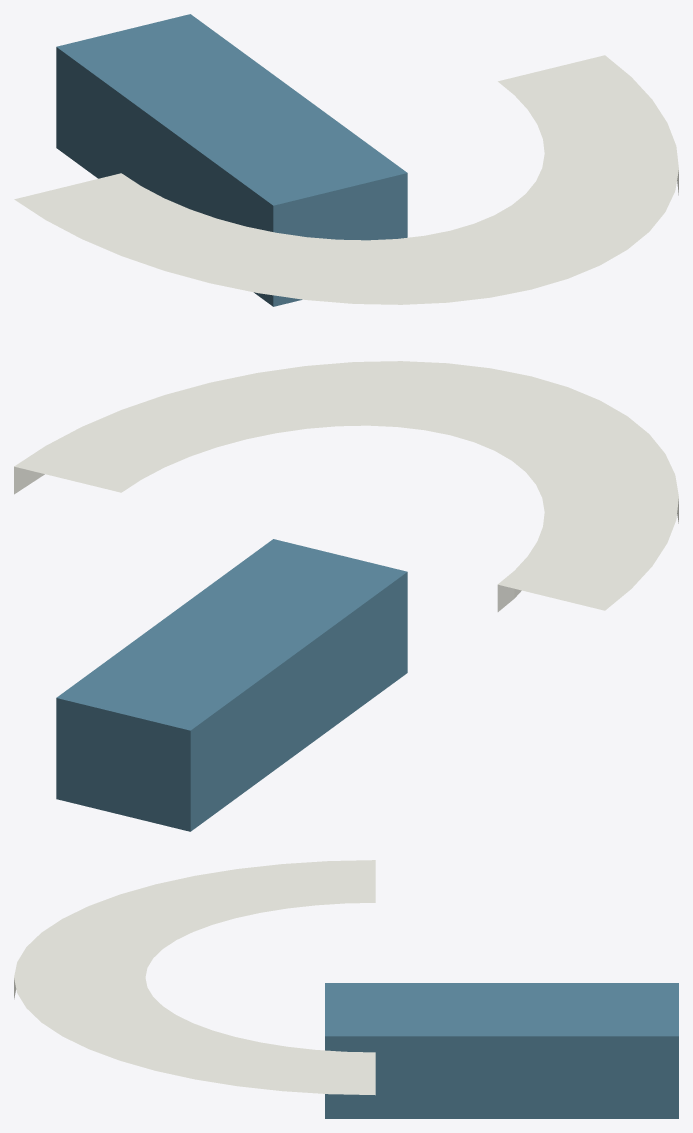
File: american-football-stadium-kit-mouthguard-182ce637__22372.glb
The picture shows the model from 3 angles, top to bottom: view 1: azimuth 30°, elevation 25°; view 2: azimuth 150°, elevation 25°; view 3: azimuth 270°, elevation 25°; orthographic projection. The views are drawn at different scales.
Visible parts, largest first — view 1: mouthguard; view 2: mouthguard; view 3: mouthguard.
Boxes of the visible parts, box(x1,y1,x2,y2) form: mouthguard: box(14, 14, 678, 306); mouthguard: box(14, 361, 678, 831); mouthguard: box(14, 860, 678, 1118).
Size of the model in its own units: 0.11 by 0.025 by 0.1315.
